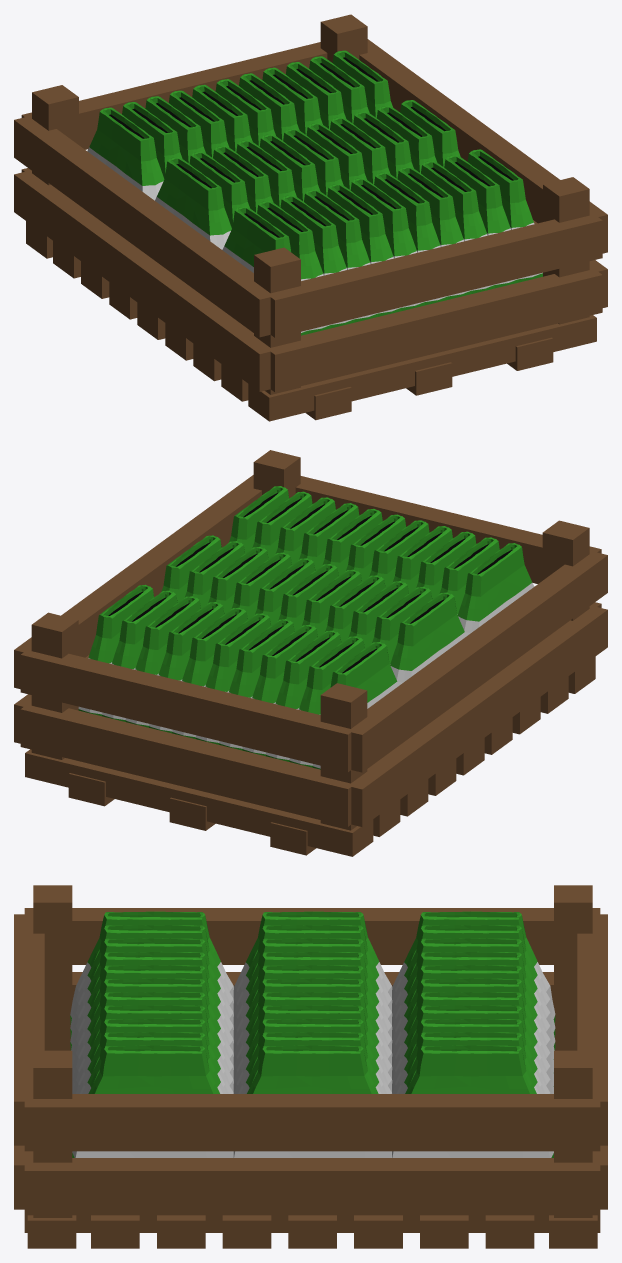
Rendered from filled_seed_bag_crate.glb.
The picture shows the model from 3 angles, top to bottom: view 1: azimuth 30°, elevation 25°; view 2: azimuth 150°, elevation 25°; view 3: azimuth 270°, elevation 25°; orthographic projection. The views are drawn at different scales.
Visible parts, largest first — view 1: SeedBag.031; view 2: SeedBag.031; view 3: SeedBag.031.
Boxes of the visible parts, x1=… form: SeedBag.031: x1=14, y1=14, x2=607, y2=421; SeedBag.031: x1=14, y1=450, x2=607, y2=856; SeedBag.031: x1=14, y1=885, x2=607, y2=1248.
Size of the model in its own units: 1.49 by 0.6561 by 1.88.
